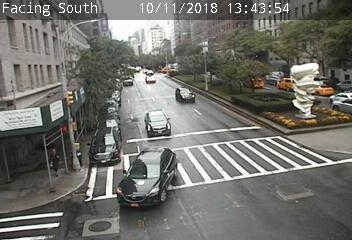car: (117, 147, 176, 206), (90, 129, 120, 166), (145, 110, 171, 138), (307, 83, 333, 96), (175, 87, 195, 103), (277, 78, 298, 92), (329, 92, 352, 104), (244, 77, 264, 88), (145, 76, 156, 84)
